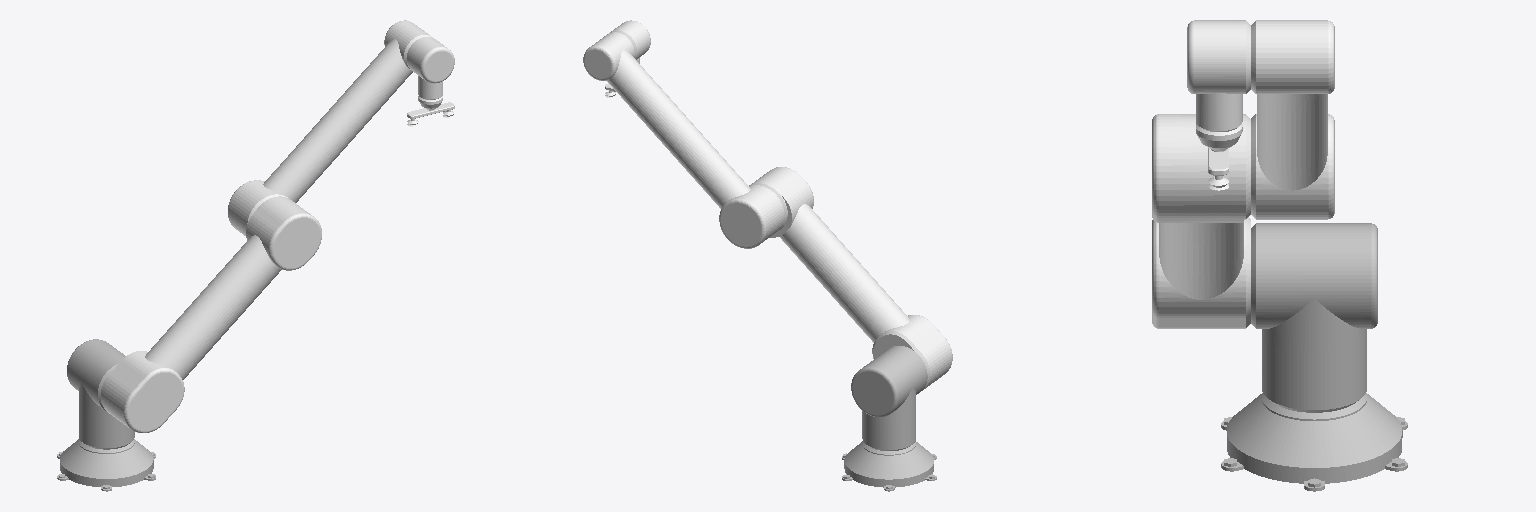
The robot description file, URDF, robot "chocolate_robot":
<?xml version="1.0"?>
<robot name="chocolate_robot">

  <!-- Materials -->
  <material name="Aluminum">
    <color rgba="0.961 0.961 0.965 1.0"/>
  </material>
  <material name="Stainless_Steel_Brushed">
    <color rgba="0.796 0.796 0.796 1.0"/>
  </material>

  <link name="base_link">
    <inertial>
      <origin xyz="-0.000000 -0.000000 0.009875" rpy="0 0 0"/>
      <mass value="34.087736"/>
      <inertia ixx="1.593195e-01" ixy="0.000000e+00" ixz="6.908194e-10"
               iyy="1.593195e-01" iyz="6.921627e-10" izz="2.748536e-01"/>
    </inertial>
    <visual>
      <origin xyz="0.000000 0.000000 0.000000" rpy="0.000000 0.000000 0.000000"/>
      <geometry>
        <mesh filename="package://chocolate_robot_description/meshes/chocolate_robot/base_link.dae" scale="1 1 1"/>
      </geometry>
      <material name="Stainless_Steel_Brushed"/>
    </visual>
    <collision>
      <origin xyz="0.000000 0.000000 0.000000" rpy="0.000000 0.000000 0.000000"/>
      <geometry>
        <mesh filename="package://chocolate_robot_description/meshes/chocolate_robot/base_link_collision.stl" scale="0.01 0.01 0.01"/>
      </geometry>
    </collision>
  </link>

  <link name="link_1">
    <inertial>
      <origin xyz="-0.000000 0.000000 -0.150226" rpy="0 0 0"/>
      <mass value="59.188391"/>
      <inertia ixx="5.250995e-01" ixy="1.155047e-06" ixz="3.558606e-07"
               iyy="4.741612e-01" iyz="2.355918e-07" izz="2.679484e-01"/>
    </inertial>
    <visual>
      <origin xyz="0.000000 -0.000000 0.067260" rpy="3.141593 0.000000 0.000000"/>
      <geometry>
        <mesh filename="package://chocolate_robot_description/meshes/chocolate_robot/link_1.dae" scale="1 1 1"/>
      </geometry>
      <material name="Stainless_Steel_Brushed"/>
    </visual>
    <collision>
      <origin xyz="0.000000 -0.000000 0.067260" rpy="3.141593 0.000000 0.000000"/>
      <geometry>
        <mesh filename="package://chocolate_robot_description/meshes/chocolate_robot/link_1_collision.stl" scale="0.01 0.01 0.01"/>
      </geometry>
    </collision>
  </link>

  <link name="link_2">
    <inertial>
      <origin xyz="0.252212 -0.211631 -0.079085" rpy="0 0 0"/>
      <mass value="40.893734"/>
      <inertia ixx="1.241178e+00" ixy="1.322121e+00" ixz="1.280860e-03"
               iyy="1.707430e+00" iyz="-1.075787e-03" izz="2.814841e+00"/>
    </inertial>
    <visual>
      <origin xyz="0.000000 0.184215 0.153998" rpy="0.698132 0.000000 0.000000"/>
      <geometry>
        <mesh filename="package://chocolate_robot_description/meshes/chocolate_robot/link_2.dae" scale="1 1 1"/>
      </geometry>
      <material name="Aluminum"/>
    </visual>
    <collision>
      <origin xyz="0.000000 0.184215 0.153998" rpy="0.698132 0.000000 0.000000"/>
      <geometry>
        <mesh filename="package://chocolate_robot_description/meshes/chocolate_robot/link_2_collision.stl" scale="0.01 0.01 0.01"/>
      </geometry>
    </collision>
  </link>

  <link name="link_3">
    <inertial>
      <origin xyz="0.223812 0.187791 -0.066436" rpy="0 0 0"/>
      <mass value="26.233674"/>
      <inertia ixx="7.295019e-01" ixy="-8.012426e-01" ixz="-4.841859e-04"
               iyy="1.012100e+00" iyz="-3.821474e-04" izz="1.684865e+00"/>
    </inertial>
    <visual>
      <origin xyz="-0.515241 -1.835000 -0.035287" rpy="-0.872665 0.000000 0.000000"/>
      <geometry>
        <mesh filename="package://chocolate_robot_description/meshes/chocolate_robot/link_3.dae" scale="1 1 1"/>
      </geometry>
      <material name="Aluminum"/>
    </visual>
    <collision>
      <origin xyz="-0.515241 -1.835000 -0.035287" rpy="-0.872665 0.000000 0.000000"/>
      <geometry>
        <mesh filename="package://chocolate_robot_description/meshes/chocolate_robot/link_3_collision.stl" scale="0.01 0.01 0.01"/>
      </geometry>
    </collision>
  </link>

  <link name="link_4">
    <inertial>
      <origin xyz="0.000000 0.016912 -0.050573" rpy="0 0 0"/>
      <mass value="3.627452"/>
      <inertia ixx="9.554885e-03" ixy="-1.065091e-08" ixz="2.633090e-09"
               iyy="5.383305e-03" iyz="-9.844411e-07" izz="9.659763e-03"/>
    </inertial>
    <visual>
      <origin xyz="-1.030483 1.292661 0.608001" rpy="1.570796 0.000000 0.000000"/>
      <geometry>
        <mesh filename="package://chocolate_robot_description/meshes/chocolate_robot/link_4.dae" scale="1 1 1"/>
      </geometry>
      <material name="Aluminum"/>
    </visual>
    <collision>
      <origin xyz="-1.030483 1.292661 0.608001" rpy="1.570796 0.000000 0.000000"/>
      <geometry>
        <mesh filename="package://chocolate_robot_description/meshes/chocolate_robot/link_4_collision.stl" scale="0.01 0.01 0.01"/>
      </geometry>
    </collision>
  </link>

  <link name="link_5_suctioncup">
    <inertial>
      <origin xyz="-0.000082 0.000211 0.030292" rpy="0 0 0"/>
      <mass value="0.560718"/>
      <inertia ixx="3.656890e-04" ixy="1.813770e-08" ixz="1.433474e-06"
               iyy="8.149164e-04" iyz="-2.920965e-06" izz="6.908766e-04"/>
    </inertial>
    <visual>
      <origin xyz="-1.030483 -0.658558 1.176504" rpy="3.141593 0.000000 0.000000"/>
      <geometry>
        <mesh filename="package://chocolate_robot_description/meshes/chocolate_robot/link_5_suctioncup.dae" scale="1 1 1"/>
      </geometry>
      <material name="Aluminum"/>
    </visual>
    <collision>
      <origin xyz="-1.030483 -0.658558 1.176504" rpy="3.141593 0.000000 0.000000"/>
      <geometry>
        <mesh filename="package://chocolate_robot_description/meshes/chocolate_robot/link_5_suctioncup_collision.stl" scale="0.01 0.01 0.01"/>
      </geometry>
    </collision>
  </link>

  <joint name="joint_1" type="continuous">
    <parent link="base_link"/>
    <child link="link_1"/>
    <origin xyz="-0.000000 -0.000000 0.067260" rpy="-3.141593 0.000000 0.000000"/>
    <axis xyz="0.000000 0.000000 1.000000"/>
    <limit effort="100.0" velocity="1.00"/>
  </joint>

  <joint name="joint_2" type="continuous">
    <parent link="link_1"/>
    <child link="link_2"/>
    <origin xyz="0.000000 0.101002 -0.204715" rpy="1.570796 0.000000 0.000000"/>
    <axis xyz="0.000000 0.000000 1.000000"/>
    <limit effort="100.0" velocity="1.00"/>
  </joint>

  <joint name="joint_3" type="continuous">
    <parent link="link_2"/>
    <child link="link_3"/>
    <origin xyz="0.515241 -0.432339 -0.000308" rpy="-3.141593 0.000000 0.000000"/>
    <axis xyz="0.000000 0.000000 1.000000"/>
    <limit effort="100.0" velocity="1.00"/>
  </joint>

  <joint name="joint_4" type="continuous">
    <parent link="link_3"/>
    <child link="link_4"/>
    <origin xyz="0.515241 0.432339 0.000012" rpy="-3.141593 0.000000 0.000000"/>
    <axis xyz="0.000000 0.000000 1.000000"/>
    <limit effort="100.0" velocity="1.00"/>
  </joint>

  <joint name="joint_5" type="continuous">
    <parent link="link_4"/>
    <child link="link_5_suctioncup"/>
    <origin xyz="0.000000 0.116157 -0.050557" rpy="-1.570796 0.000000 0.000000"/>
    <axis xyz="0.000000 0.000000 1.000000"/>
    <limit effort="100.0" velocity="1.00"/>
  </joint>

  <!-- ROS 2 control: generated generic system -->
  <ros2_control name="chocolate_robot_system" type="system">
    <hardware>
      <plugin>mock_components/GenericSystem</plugin>
      <param name="cmd_topic">sim/chocolate_robot_system/cmd</param>
      <param name="state_topic">sim/chocolate_robot_system/state</param>
    </hardware>

    <joint name="joint_1">
      <command_interface name="position"/>
      <command_interface name="velocity"/>
      <state_interface name="position">
        <param name="initial_value">0.0</param>
      </state_interface>
      <state_interface name="velocity"/>
      <state_interface name="effort"/>
    </joint>
    <joint name="joint_2">
      <command_interface name="position"/>
      <command_interface name="velocity"/>
      <state_interface name="position">
        <param name="initial_value">0.0</param>
      </state_interface>
      <state_interface name="velocity"/>
      <state_interface name="effort"/>
    </joint>
    <joint name="joint_3">
      <command_interface name="position"/>
      <command_interface name="velocity"/>
      <state_interface name="position">
        <param name="initial_value">0.0</param>
      </state_interface>
      <state_interface name="velocity"/>
      <state_interface name="effort"/>
    </joint>
    <joint name="joint_4">
      <command_interface name="position"/>
      <command_interface name="velocity"/>
      <state_interface name="position">
        <param name="initial_value">0.0</param>
      </state_interface>
      <state_interface name="velocity"/>
      <state_interface name="effort"/>
    </joint>
    <joint name="joint_5">
      <command_interface name="position"/>
      <command_interface name="velocity"/>
      <state_interface name="position">
        <param name="initial_value">0.0</param>
      </state_interface>
      <state_interface name="velocity"/>
      <state_interface name="effort"/>
    </joint>
  </ros2_control>


  <link name="world"/>

  <joint name="world_to_base" type="fixed">
    <parent link="world"/>
    <child link="base_link"/>
    <origin xyz="0 0 0" rpy="0 0 0"/>
  </joint>

</robot>

--- Facts derived from the render (not from the file) ---
Views: 3 orthographic renders of the robot side by side, from view 1: azimuth 30°, elevation 25°; view 2: azimuth 150°, elevation 25°; view 3: azimuth 270°, elevation 25°.
Robot: chocolate_robot — 7 links, 6 joints (5 continuous, 1 fixed); root link world; default pose: every joint at zero.
Links seen in each view (by area): view 1: link_2, link_3, link_1, base_link, link_4, link_5_suctioncup; view 2: link_3, link_2, link_1, base_link, link_4; view 3: link_1, link_2, link_3, base_link, link_4, link_5_suctioncup.
Link boxes in pixels (bbox=[...]): link_2: bbox=[101, 196, 321, 432]; link_3: bbox=[228, 20, 432, 235]; link_1: bbox=[67, 339, 134, 449]; base_link: bbox=[57, 439, 155, 491]; link_4: bbox=[407, 37, 454, 99]; link_5_suctioncup: bbox=[407, 96, 454, 126]; link_3: bbox=[583, 32, 784, 248]; link_2: bbox=[749, 167, 952, 390]; link_1: bbox=[851, 346, 927, 450]; base_link: bbox=[842, 441, 936, 491]; link_4: bbox=[610, 20, 650, 63]; link_1: bbox=[1251, 223, 1377, 412]; link_2: bbox=[1152, 114, 1250, 328]; link_3: bbox=[1251, 20, 1334, 219]; base_link: bbox=[1221, 393, 1407, 491]; link_4: bbox=[1187, 20, 1250, 131]; link_5_suctioncup: bbox=[1196, 124, 1242, 190].
Size in the robot's own frame: 1.28 by 0.4069 by 1.22 metres.
Meshes: 6 distinct files referenced, 6 mesh visuals loaded (6 Collada DAE).
